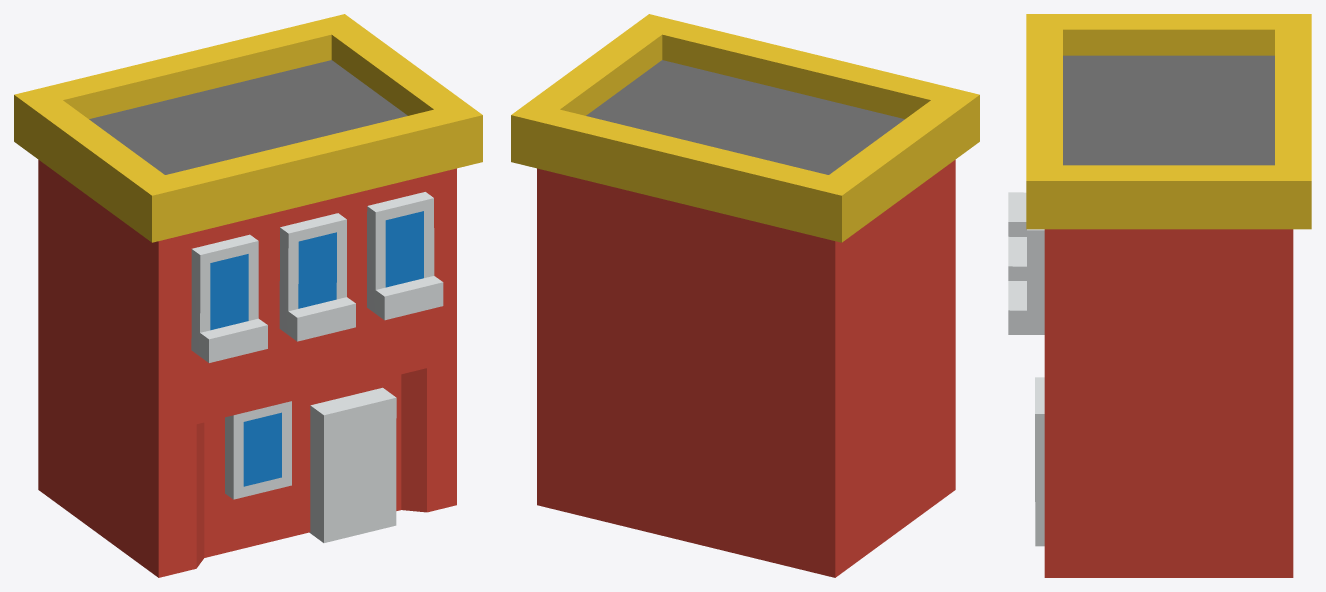
File: shop01_s03.FBX
3 renders of one model, left to right at view 1: azimuth 30°, elevation 25°; view 2: azimuth 150°, elevation 25°; view 3: azimuth 270°, elevation 25°, orthographic. The views are drawn at different scales.
Visible parts, largest first — view 1: shop01_s03; view 2: shop01_s03; view 3: shop01_s03.
Part boxes in pixels (x1,y1,x2,y2): shop01_s03: (14,14,482,577); shop01_s03: (511,14,979,577); shop01_s03: (1008,14,1311,577).
Bounding box in the file's own units: 470 × 362 × 535.
Materials: 1 (1 with a texture image).
